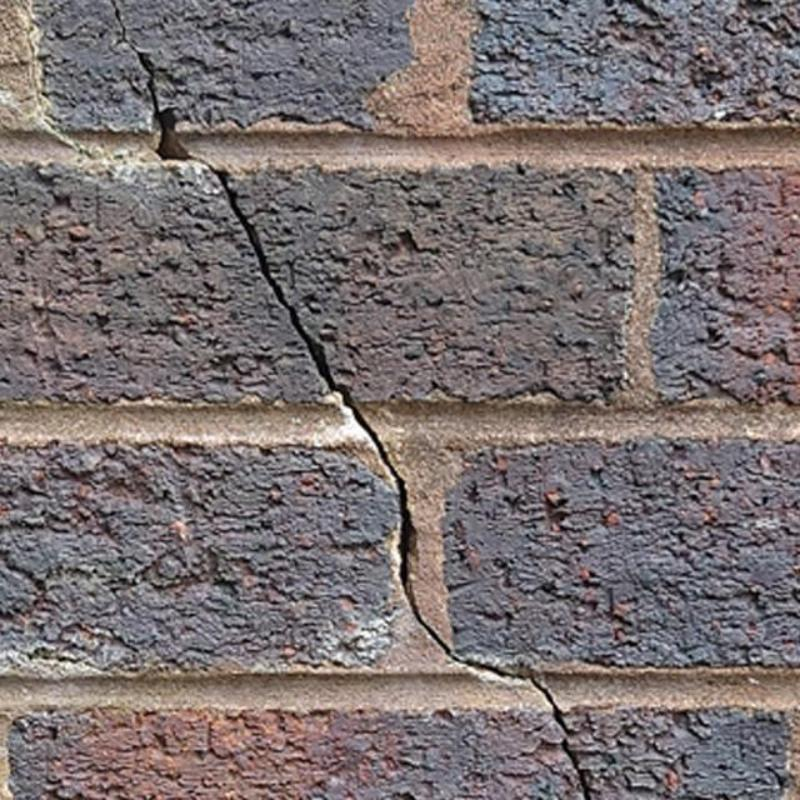pothole: (110, 0, 594, 799)
